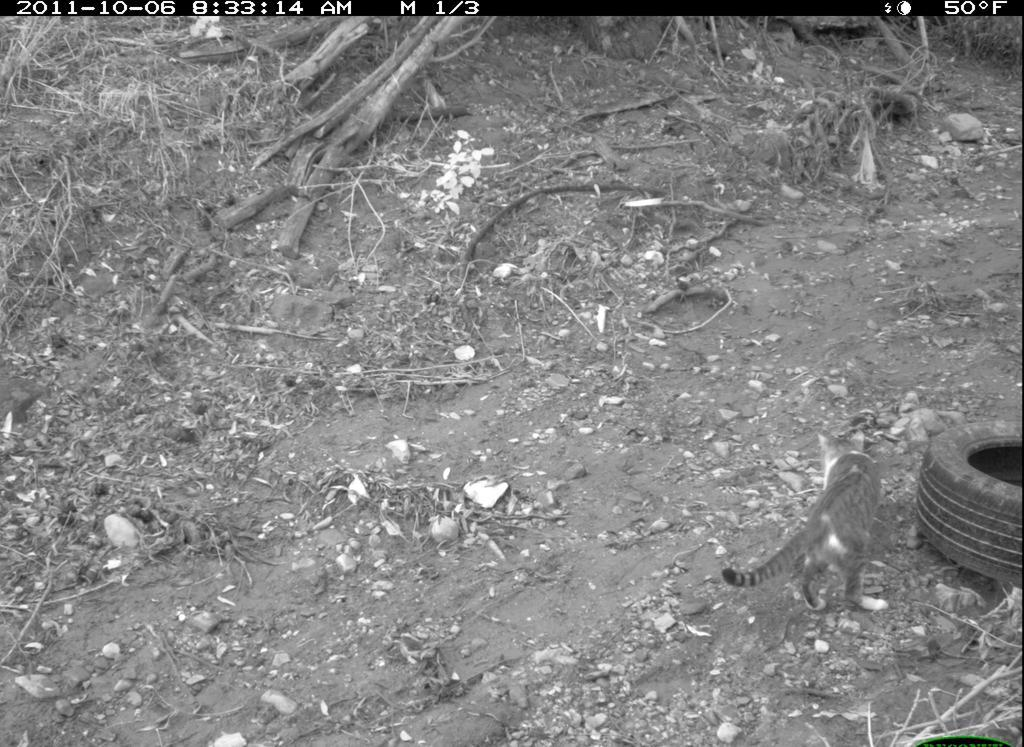cat: (716, 417, 904, 638)
